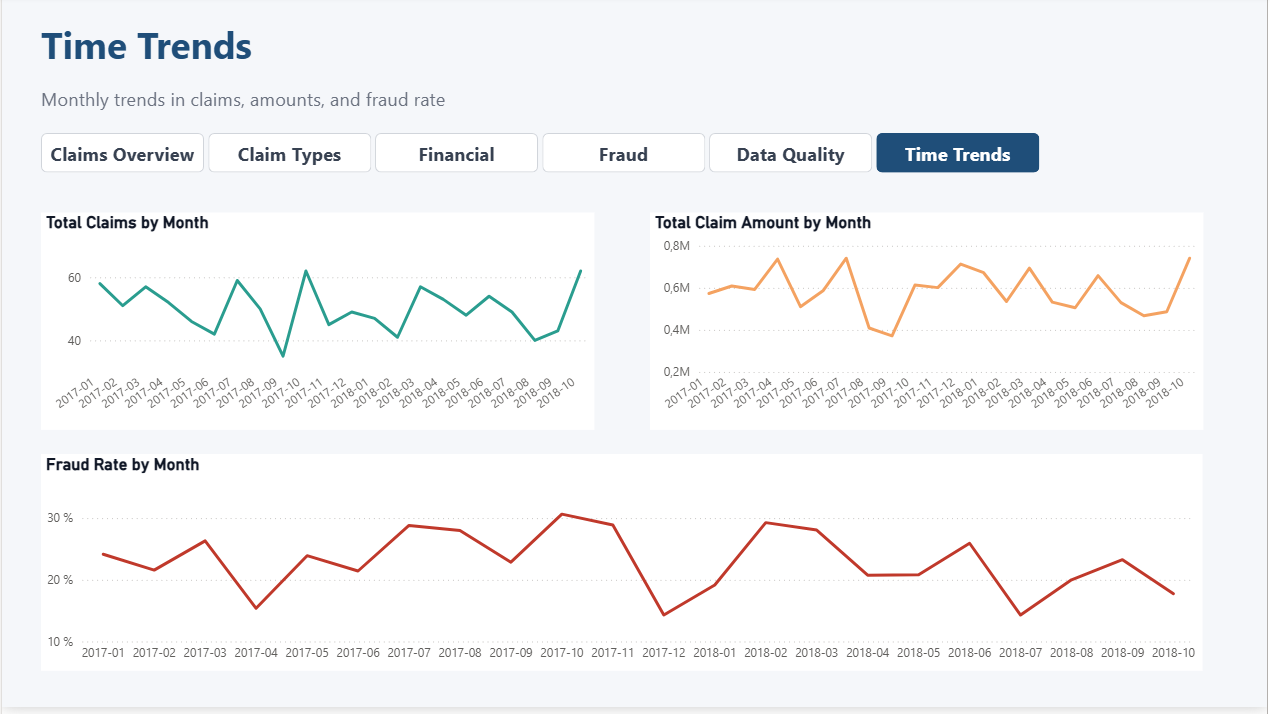

Layout of this report page (visuals, bound fields, positions):
{"tool":"powerbi","page":{"name":"Time Trends","canvas":[1280,720],"ordinal":5},"visuals":[{"type":"textbox","box":[40,25,800,70],"z":0},{"type":"textbox","box":[40,92,600,26],"z":1000},{"type":"pageNavigator","box":[40,140,1010,40],"z":2000},{"type":"lineChart","title":"Total Claims by Month","fields":{"Y":["_measures.Total Claims"],"Category":["Calendar.Year Month"]},"box":[40,220,560,220],"z":3000},{"type":"lineChart","title":"Total Claim Amount by Month","fields":{"Category":["Calendar.Year Month"],"Y":["_measures.Total Claim Amount"]},"box":[655.7,220,560,220],"z":4000},{"type":"lineChart","title":"Fraud Rate by Month","fields":{"Category":["Calendar.Year Month"],"Y":["_measures.Fraud Rate"]},"box":[39.9,464.9,1175.2,219.4],"z":5000}]}

Visuals, with their boxes in screenshot pixels (x1, y1, x2, y2), scaled from the page's 1280x720 canvas onto the 1270x714 screenshot:
textbox: 40/25/833/94
textbox: 40/91/635/117
pageNavigator: 40/139/1042/178
"Total Claims by Month" lineChart: 40/218/595/436
"Total Claim Amount by Month" lineChart: 651/218/1206/436
"Fraud Rate by Month" lineChart: 40/461/1206/679
